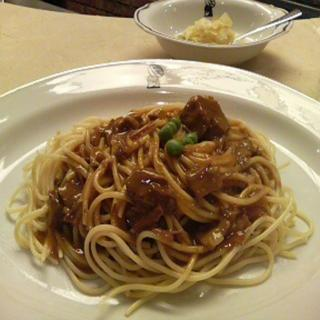Pasta: (8, 90, 296, 296)
